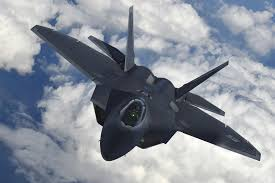fighter: (29, 3, 262, 163)
